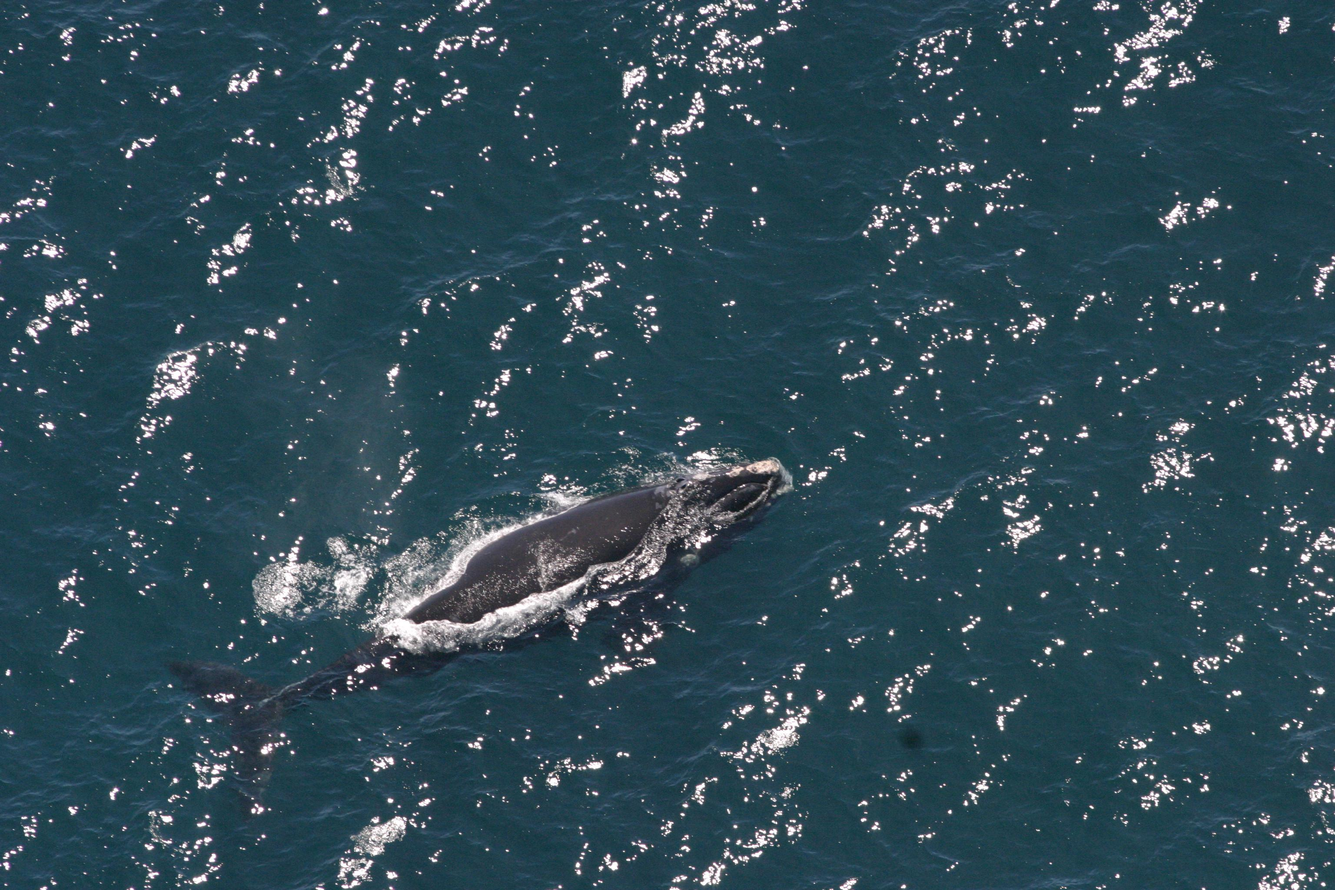whale: (152, 454, 802, 818)
